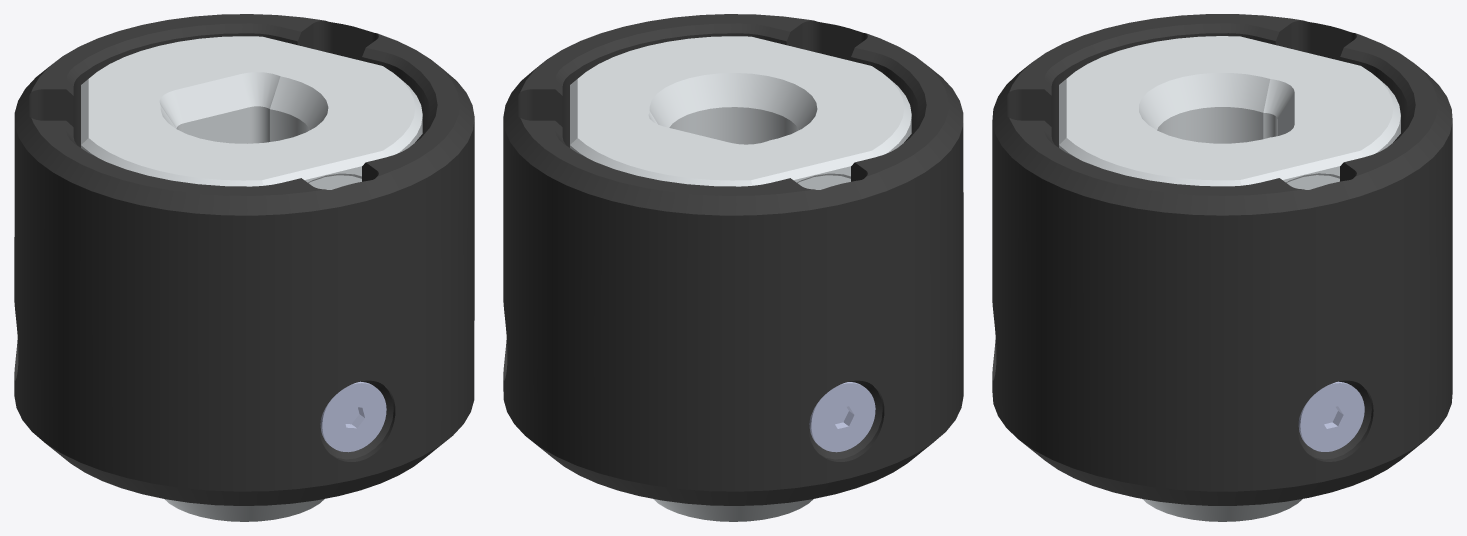
File: hand_link.dae
The picture shows the model from 3 angles, left to right: view 1: azimuth 30°, elevation 25°; view 2: azimuth 150°, elevation 25°; view 3: azimuth 270°, elevation 25°; orthographic projection.
Parts seen in each view (by area): view 1: Body_2, _3DGeom-80, Body_3; view 2: Body_2, _3DGeom-80, Body_5; view 3: Body_2, _3DGeom-80, Body_4.
Boxes of the visible parts, box(x1,y1,x2,y2) form: Body_2: box(14, 14, 474, 505); _3DGeom-80: box(81, 36, 422, 521); Body_3: box(320, 381, 386, 452); Body_2: box(503, 14, 963, 505); _3DGeom-80: box(570, 36, 911, 521); Body_5: box(809, 382, 875, 452); Body_2: box(992, 14, 1452, 505); _3DGeom-80: box(1059, 36, 1400, 521); Body_4: box(1298, 381, 1364, 451).
Size of the model in its own units: 0.031 by 0.031 by 0.0282.
